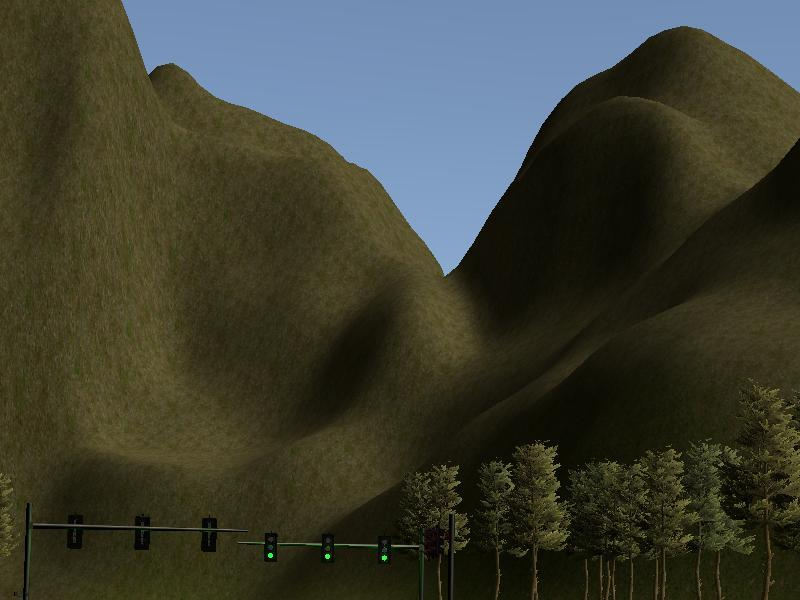Green: (377, 535, 391, 565), (264, 533, 278, 562), (322, 535, 335, 563)
